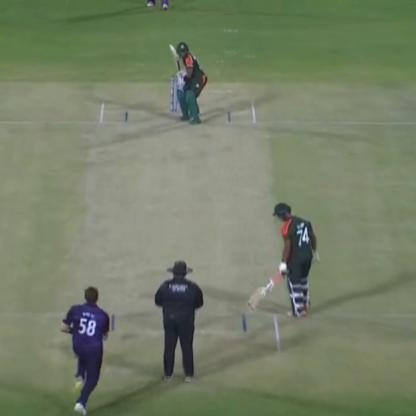bat: (242, 275, 286, 314), (164, 38, 188, 87)
pitch: (78, 92, 288, 364)
